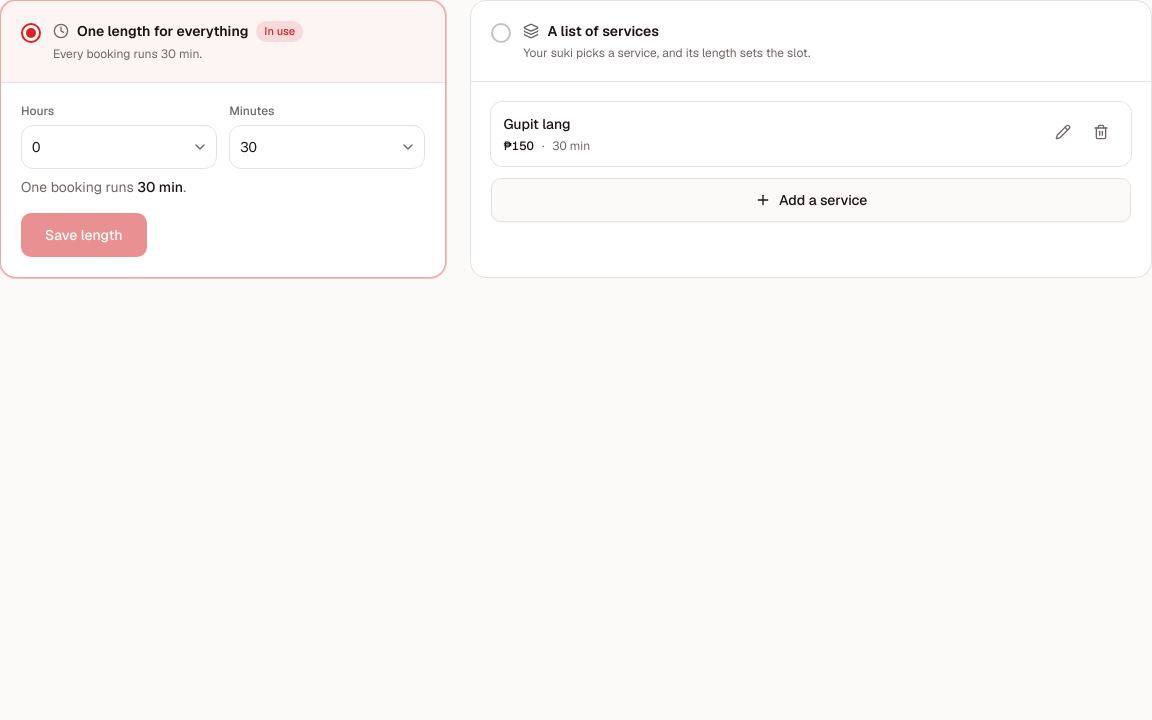
Test: LengthPanel › opens an existing service with its own values filled in
Click the button named "Edit Gupit lang" at [1063, 132], box [1045,114,1081,150]
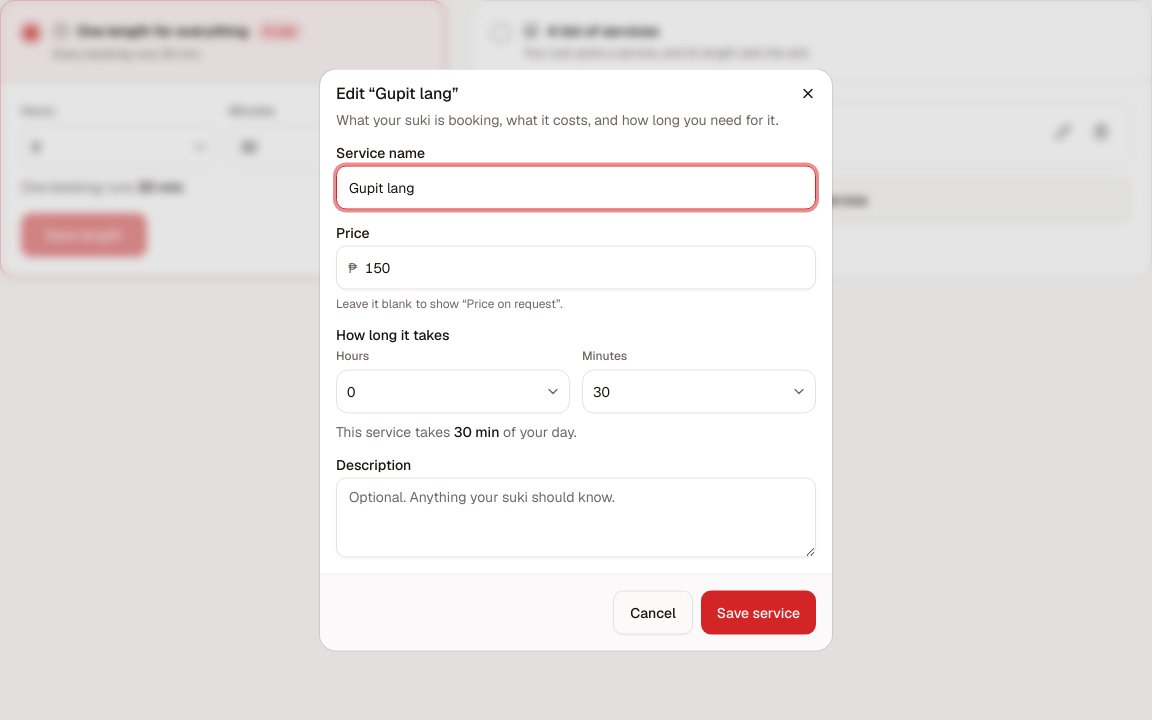
Check: the field labelled "Service name" holds "Gupit lang", box [336,166,816,210]
Check: the field labelled "Price" holds "150", box [336,246,816,290]
